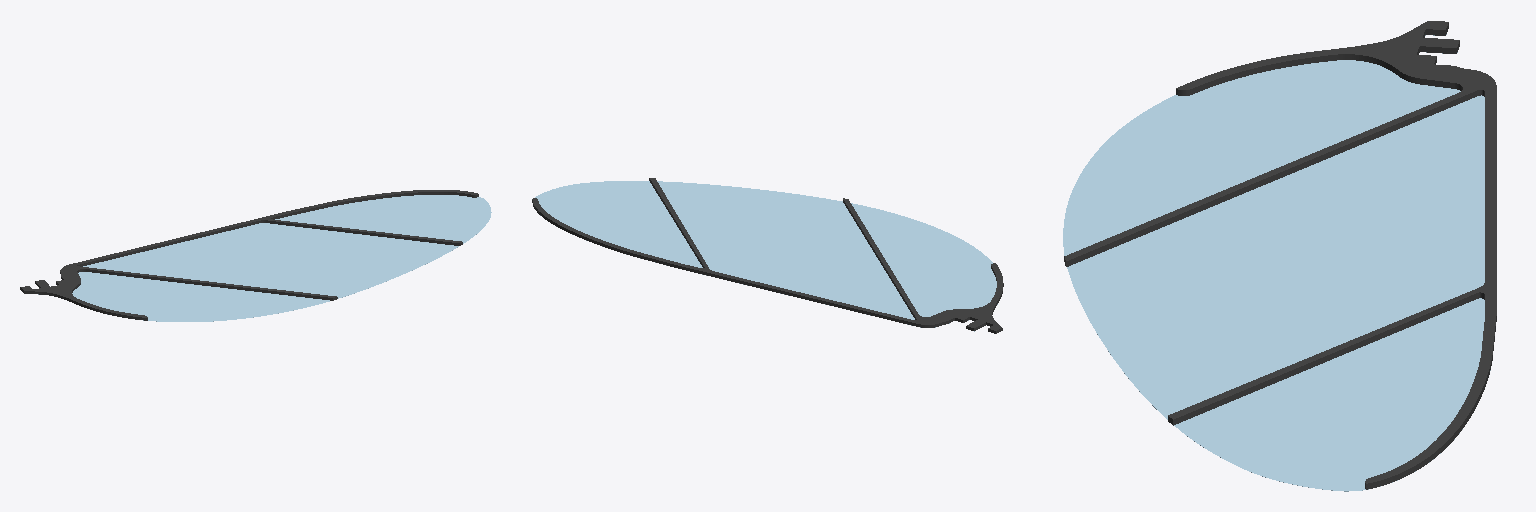
The robot description file, URDF, robot "wing_asy":
<!--URDF generated by ONSHAPE BY PTC INC, 1.215-->
<robot name="wing_asy">
    <link name="part_1">
        <inertial>
            <mass value="3.83835e-10" />
            <origin xyz="-0.00151305 0.00117934 4e-05" rpy="0 -0 0" />
            <inertia ixx="0" ixy="0" ixz="0" iyy="5.9244e-15" iyz="0" izz="6.59347e-15" />
        </inertial>
        <visual>
            <origin xyz="0 0 0" rpy="0 -0 0" />
            <geometry>
                <mesh filename="package://wing_asy/meshes/Part_1.obj" scale="1 1 1" />
            </geometry>
            <material name="0.301961_0.301961_0.301961_0.000000_0.000000">
                <color rgba="0.301961 0.301961 0.301961 1" />
            </material>
        </visual>
    </link>
    <link name="part_1_1">
        <inertial>
            <mass value="8.16534e-11" />
            <origin xyz="0.00677543 -0.00179668 -7.5e-07" rpy="0 -0 0" />
            <inertia ixx="0" ixy="0" ixz="0" iyy="0" iyz="0" izz="1.01421e-15" />
        </inertial>
        <visual>
            <origin xyz="0.00679779 -0.00217114 -1.5e-06" rpy="0 -0 0" />
            <geometry>
                <mesh filename="package://wing_asy/meshes/Part_1_1.obj" scale="1 1 1" />
            </geometry>
            <material name="0.768627_0.886275_0.952941_0.000000_0.901961">
                <color rgba="0.768627 0.886275 0.952941 0.0980392" />
            </material>
        </visual>
    </link>
    <link name="root" />
    <joint name="fastened_1" type="fixed">
        <origin xyz="-0.00661946 0.00191632 2.03288e-20" rpy="0 -0 0" />
        <axis xyz="0 0 -1" />
        <parent link="part_1" />
        <child link="part_1_1" />
    </joint>
    <joint name="fixed_node_to_root_joint" type="fixed">
        <origin xyz="0.00122028 -0.000993447 -3.285e-05" rpy="0 -0 0" />
        <axis xyz="0 0 1" />
        <parent link="root" />
        <child link="part_1" />
    </joint>
</robot>

--- What the picture shows (computed from the rendered views, not written in the file) ---
3 views of the same robot in one strip: view 1: azimuth 30°, elevation 25°; view 2: azimuth 150°, elevation 25°; view 3: azimuth 270°, elevation 25° (orthographic).
Model wing_asy with 3 links and 2 joints (2 fixed), rooted at root, posed every joint at zero.
Links seen in each view (by area): view 1: part_1_1, part_1; view 2: part_1_1, part_1; view 3: part_1_1, part_1.
Boxes of the visible links, box(x1,y1,x2,y2) form: part_1_1: box(38, 195, 491, 321); part_1: box(20, 190, 478, 320); part_1_1: box(535, 181, 997, 331); part_1: box(532, 178, 1003, 333); part_1_1: box(1063, 34, 1490, 491); part_1: box(1064, 21, 1496, 489).
Size in the robot's own frame: 0.0135 by 0.0053 by 0.0001 metres.
Meshes: 2 distinct files referenced, 2 mesh visuals loaded (2 OBJ).
